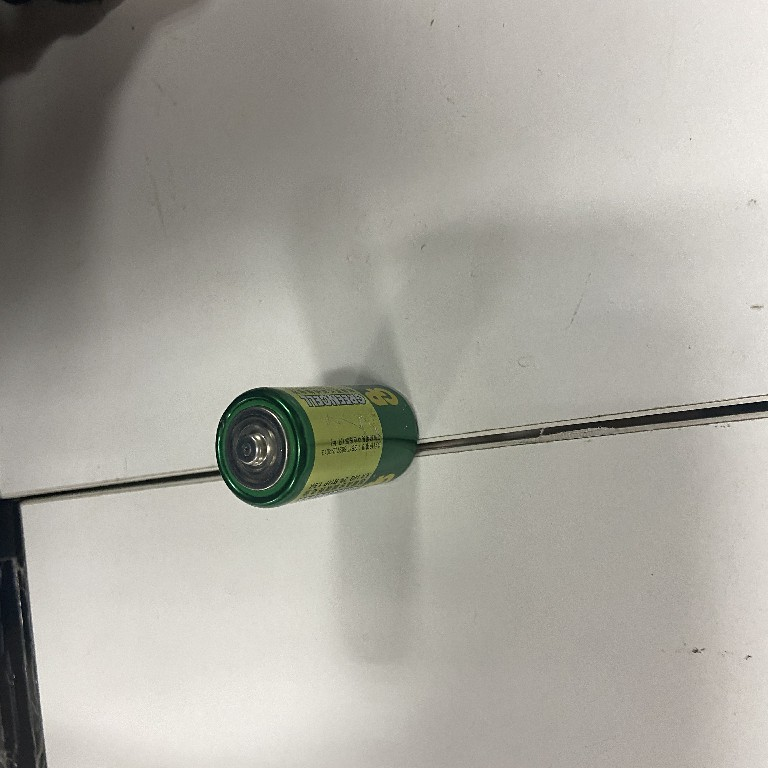charge: (211, 379, 422, 513)
